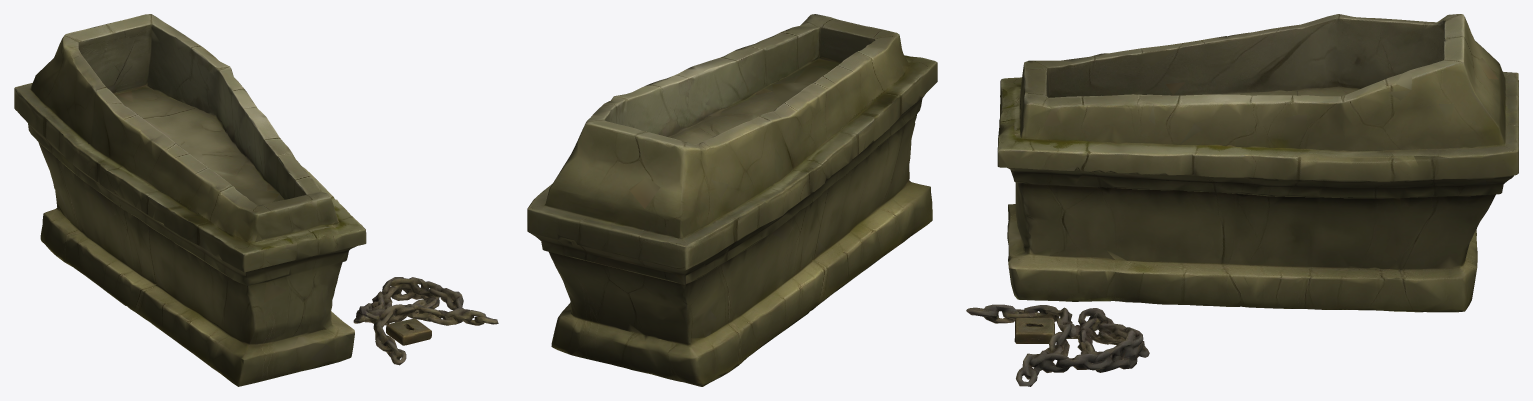
3 renders of one model, left to right at view 1: azimuth 30°, elevation 25°; view 2: azimuth 150°, elevation 25°; view 3: azimuth 270°, elevation 25°, orthographic. The views are drawn at different scales.
Visible parts, largest first — view 1: Mesh_0.001; view 2: Mesh_0.001; view 3: Mesh_0.001.
Part boxes in pixels (x1,y1,x2,y2): Mesh_0.001: (14, 14, 498, 386); Mesh_0.001: (527, 14, 937, 386); Mesh_0.001: (966, 14, 1518, 386).
Size of the model in its own units: 1.29 by 0.9265 by 1.91.
Materials: 1 (1 with a texture image).
